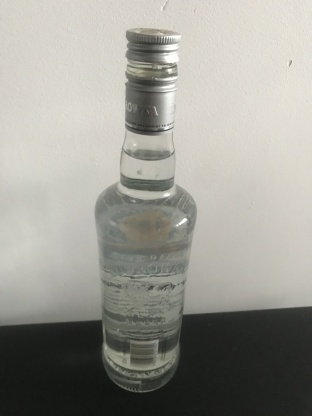nakretka: (123, 26, 182, 136)
